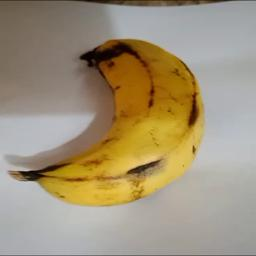Banana Semifresh: (7, 34, 211, 205)
